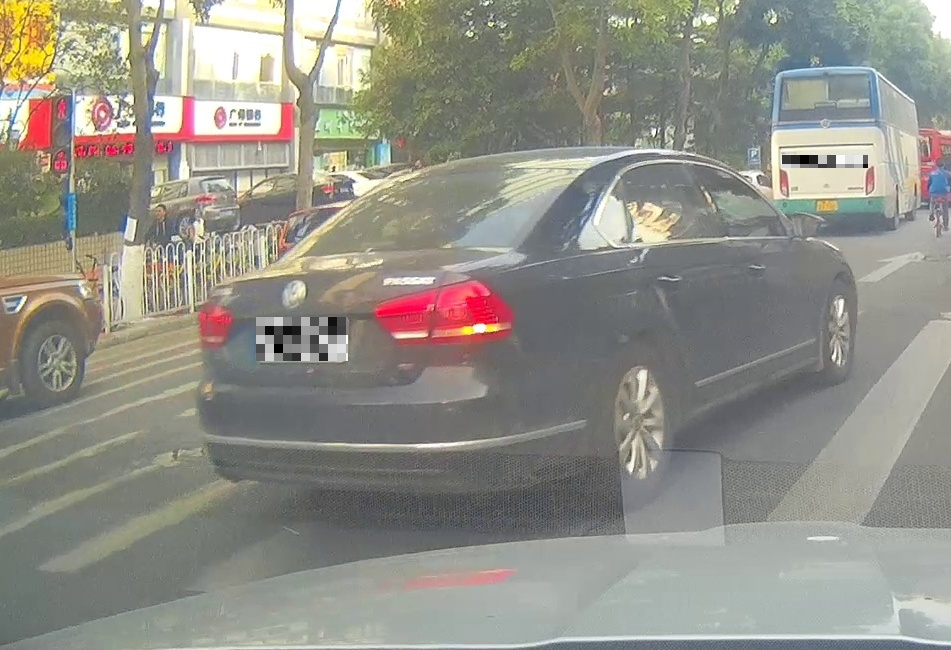L_light: (196, 300, 237, 351)
R_light: (370, 277, 517, 348)
T_light: (355, 240, 396, 250)
day-right: (193, 149, 590, 518)
plate_1: (256, 317, 348, 361)
plate_2: (782, 155, 868, 168)
